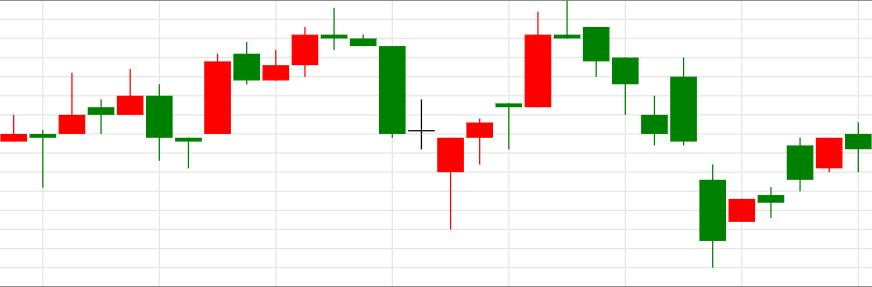hammer_rise: (319, 7, 466, 230)
